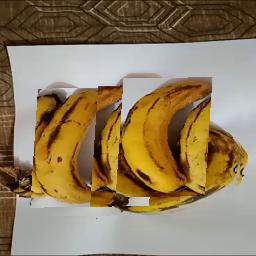Banana Semifresh: (19, 73, 246, 217), (124, 80, 213, 199), (40, 90, 121, 209), (100, 88, 159, 209)
